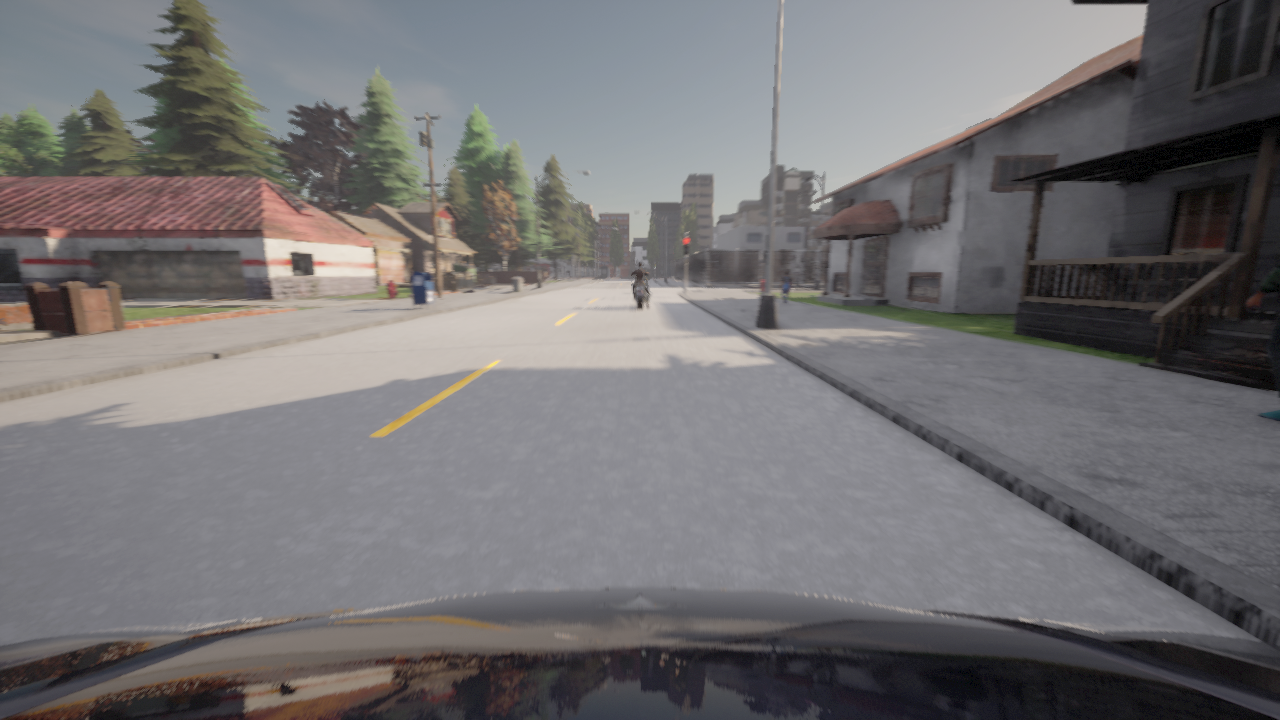cyclist: (0, 588, 1279, 719), (629, 271, 646, 308), (644, 276, 650, 286)
pedestrian: (1246, 263, 1279, 422), (780, 271, 791, 304)
